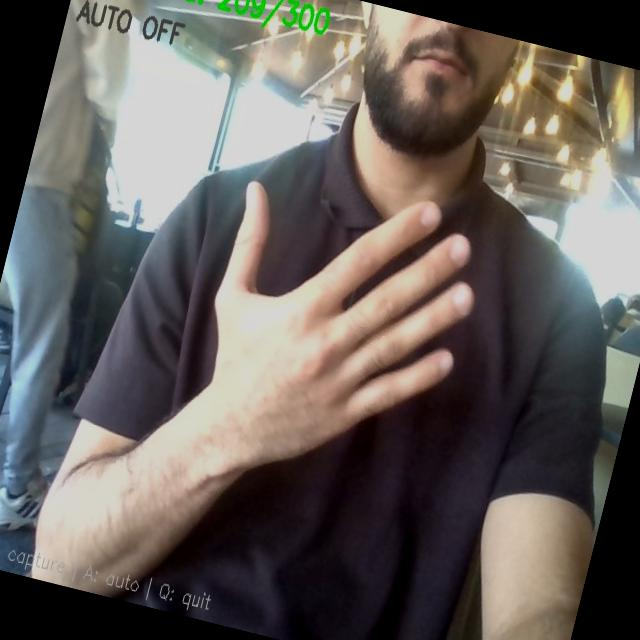Hand: (204, 183, 472, 468)
